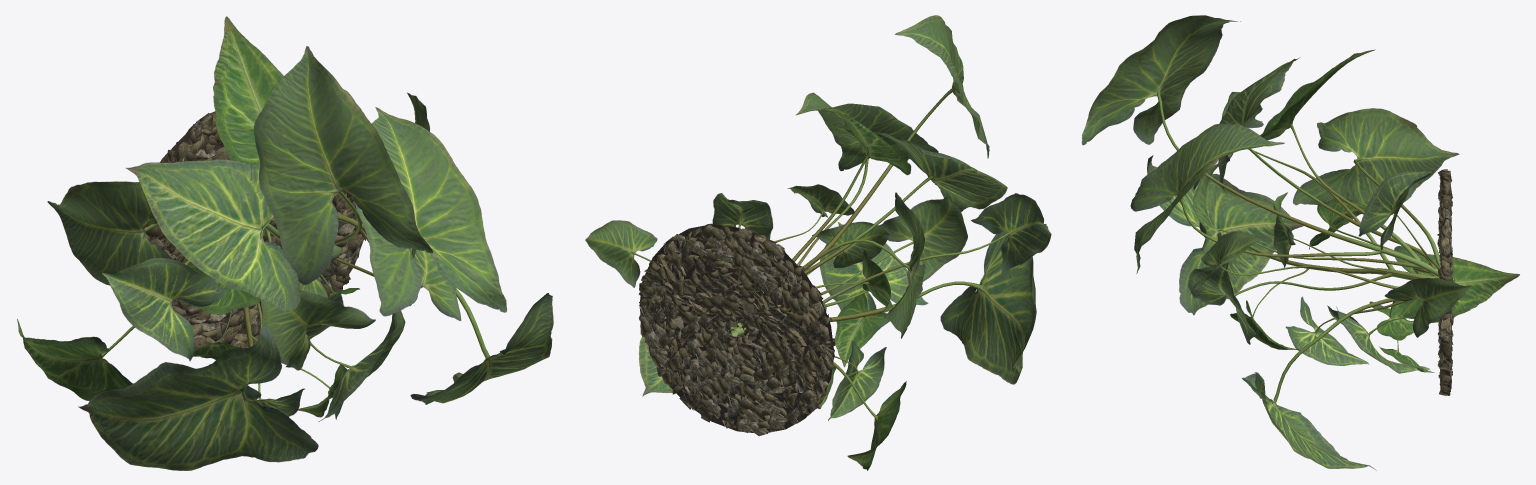
The model's file is window-plant.glb.
3 renders of one model, left to right at view 1: azimuth 30°, elevation 25°; view 2: azimuth 150°, elevation 25°; view 3: azimuth 270°, elevation 25°, orthographic. The views are drawn at different scales.
Parts seen in each view (by area): view 1: Bay foliage and potting mix; view 2: Bay foliage and potting mix; view 3: Bay foliage and potting mix.
Part boxes in pixels (bbox=[...]): Bay foliage and potting mix: bbox=[17, 16, 553, 470]; Bay foliage and potting mix: bbox=[585, 15, 1051, 470]; Bay foliage and potting mix: bbox=[1081, 15, 1519, 470].
Size of the model in its own units: 0.3366 by 0.3087 by 0.3384.
2 materials, 2 textured.
